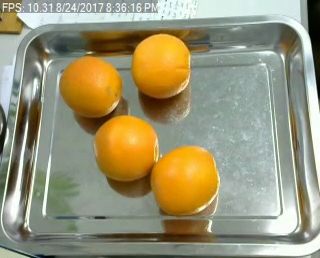Orange: (152, 145, 220, 216), (93, 115, 157, 178), (131, 31, 191, 98), (59, 54, 121, 115)
